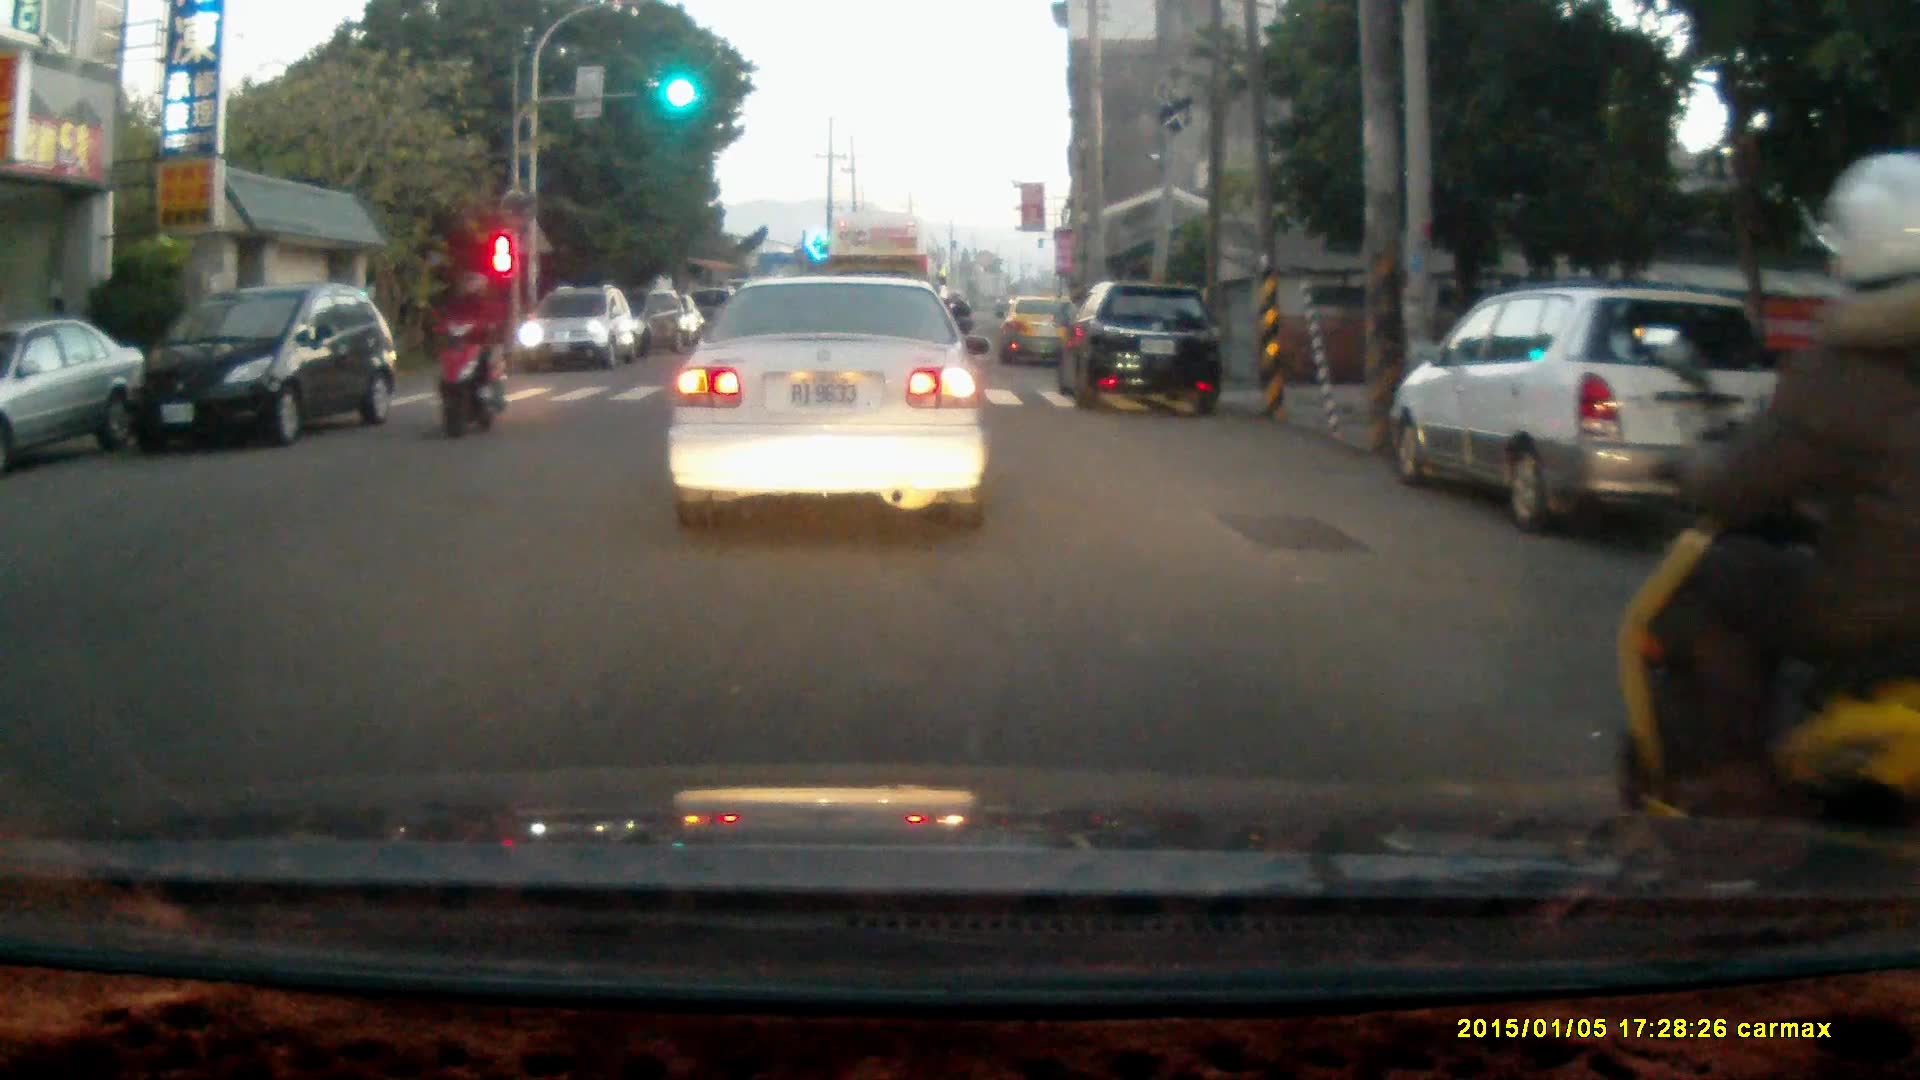rider: (1611, 202, 1920, 913), (434, 265, 506, 442)
vehicle: (1399, 285, 1785, 528), (672, 270, 993, 525), (119, 282, 398, 456), (0, 317, 142, 467), (1064, 281, 1223, 414), (824, 206, 939, 364), (520, 287, 640, 378), (998, 294, 1091, 370)
